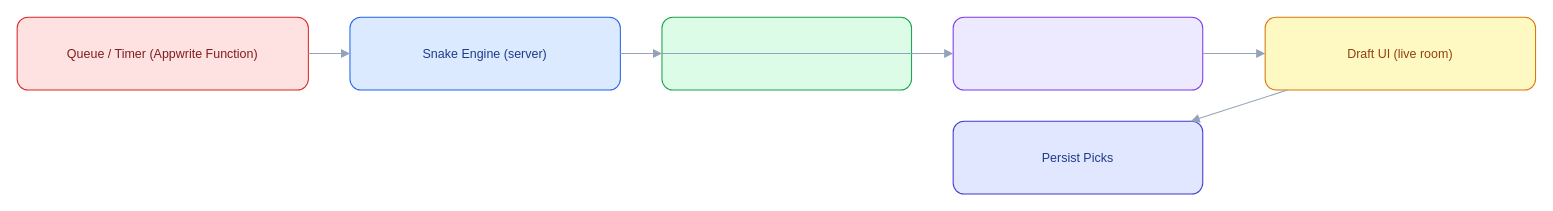
This 1553x211 diagram has some shape labels left out. Each missing label, with the centre of its shape:
Draft Pool (Appwrite): the point at 786,53
Realtime (Appwrite): the point at 1077,53
